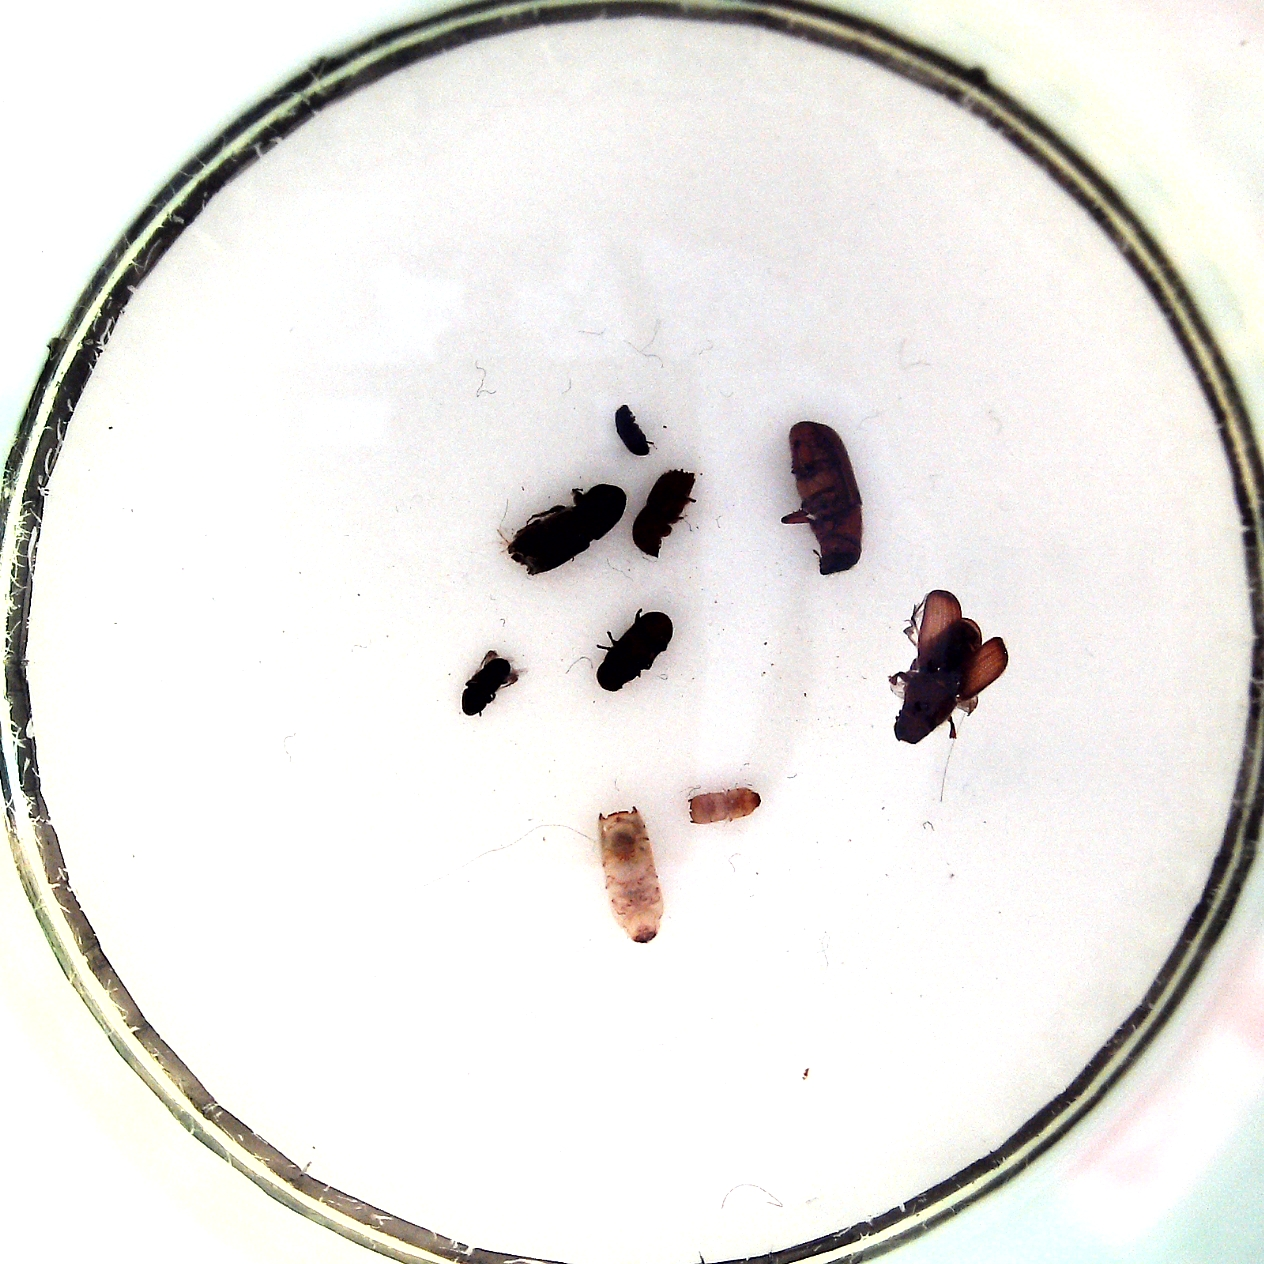Boerner: (589, 804, 668, 947)
Leconte: (882, 583, 1014, 755), (776, 416, 869, 580), (492, 480, 638, 578)
Linnaeus: (627, 462, 700, 560)
acuminatus: (682, 785, 769, 826)
armandi: (587, 603, 679, 696)
coleoptera: (456, 645, 530, 721), (609, 396, 659, 460)
